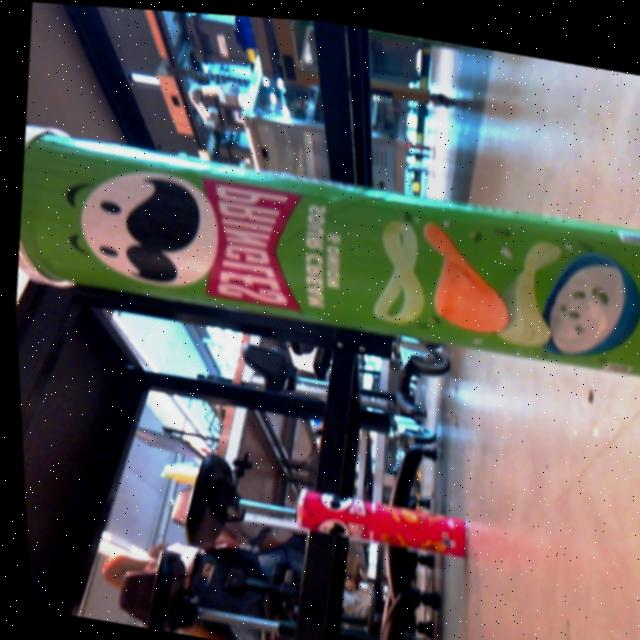greenpringles: (6, 115, 640, 393)
redpringles: (276, 473, 475, 566)
